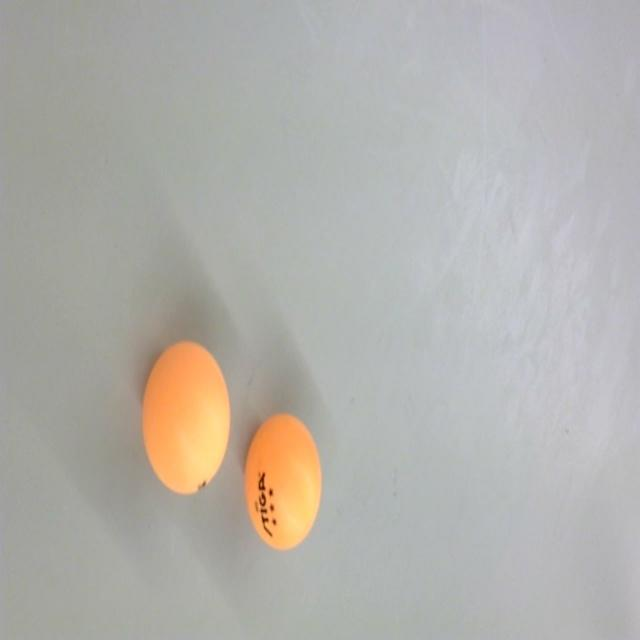ball: (139, 338, 230, 498), (242, 409, 322, 554)
